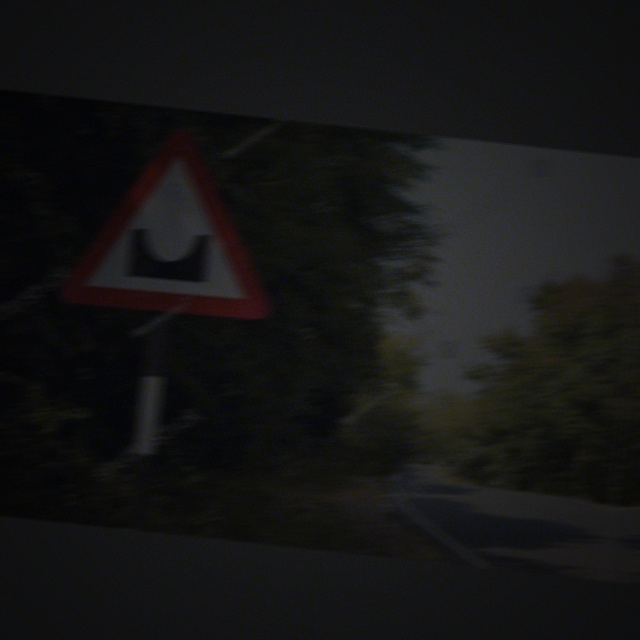Dangerous_Dip: (57, 120, 283, 321)
